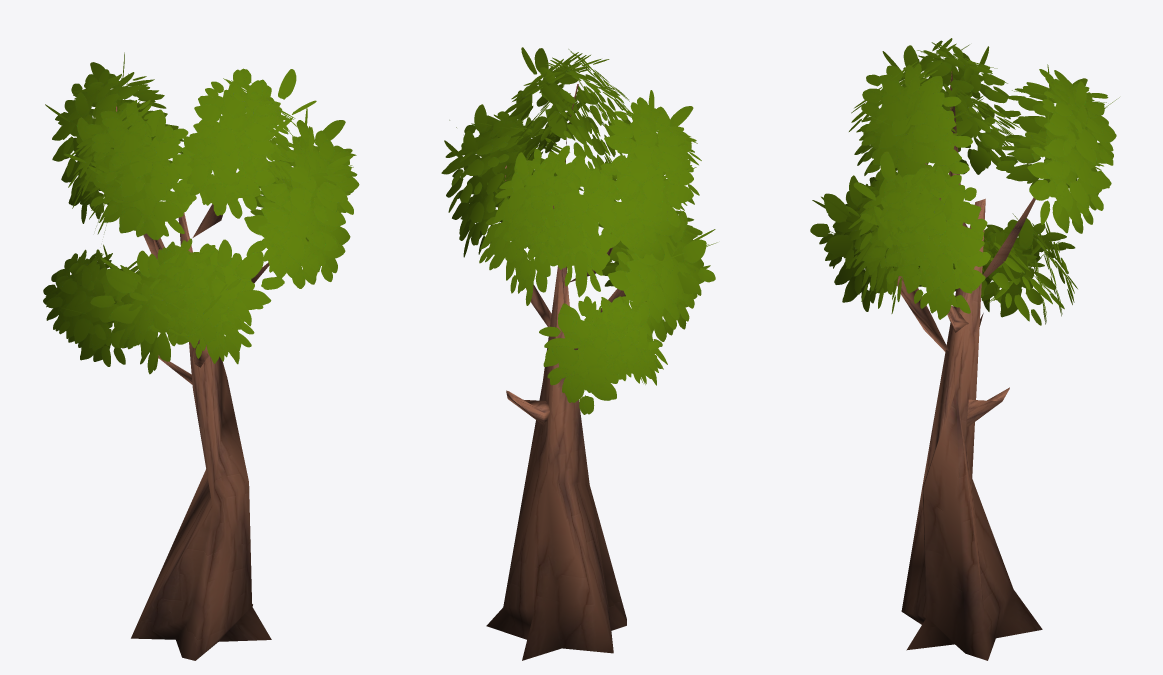
The model's file is oak_5.glb.
The picture shows the model from 3 angles, left to right: view 1: azimuth 30°, elevation 25°; view 2: azimuth 150°, elevation 25°; view 3: azimuth 270°, elevation 25°; orthographic projection. The views are drawn at different scales.
Parts seen in each view (by area): view 1: CommonTree_5; view 2: CommonTree_5; view 3: CommonTree_5.
Boxes of the visible parts, left/top/right/bottom form: CommonTree_5: left=43, top=52, right=359, bottom=660; CommonTree_5: left=441, top=47, right=717, bottom=660; CommonTree_5: left=810, top=38, right=1119, bottom=660.
Bounding box in the file's own units: 3.6 × 6.25 × 3.53.
Materials: 2 (2 with a texture image).
